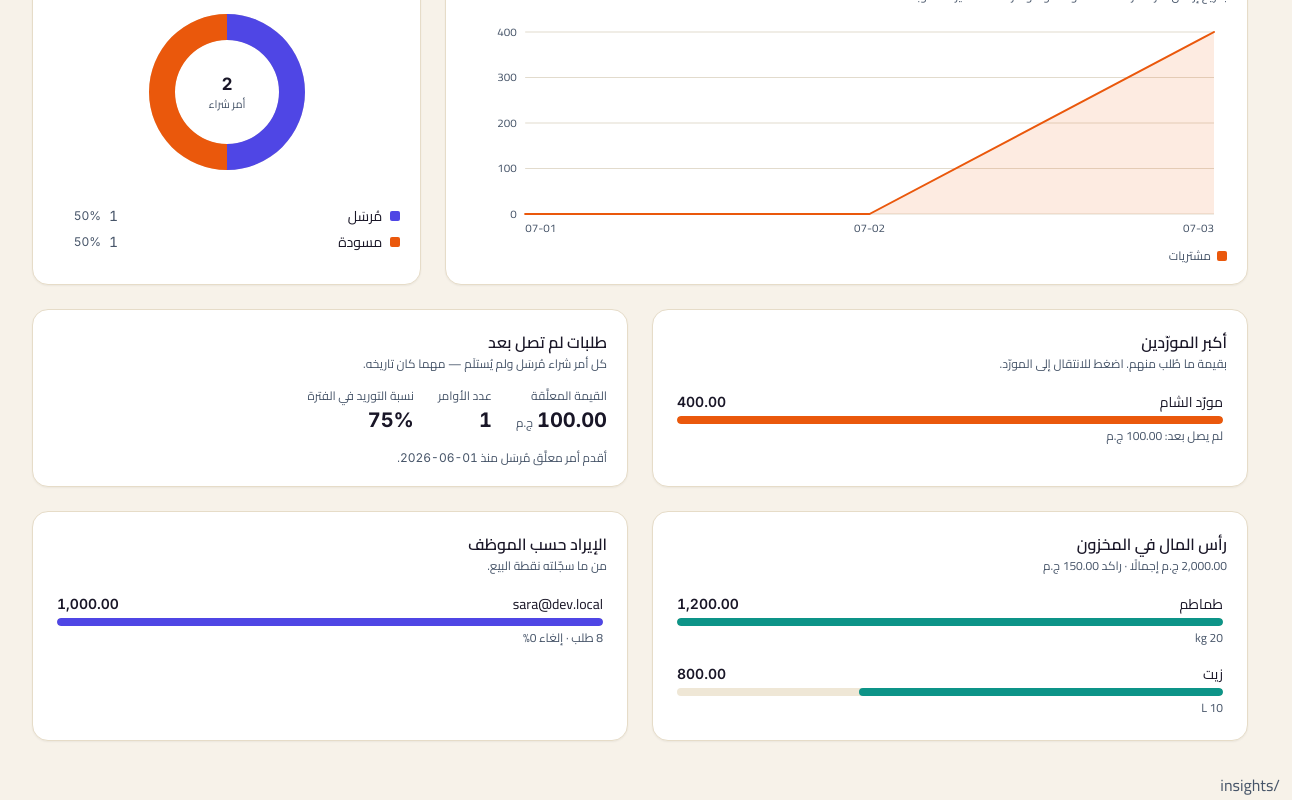
it: getting from a chart to the record › a supplier bar opens that supplier
The image size is (1292, 800).
(page scrolled)
Click the button "مورّد الشام 400.00 لم يصل بعد: 100.00 ج.م" at (950, 418), box [673,388,1227,448]
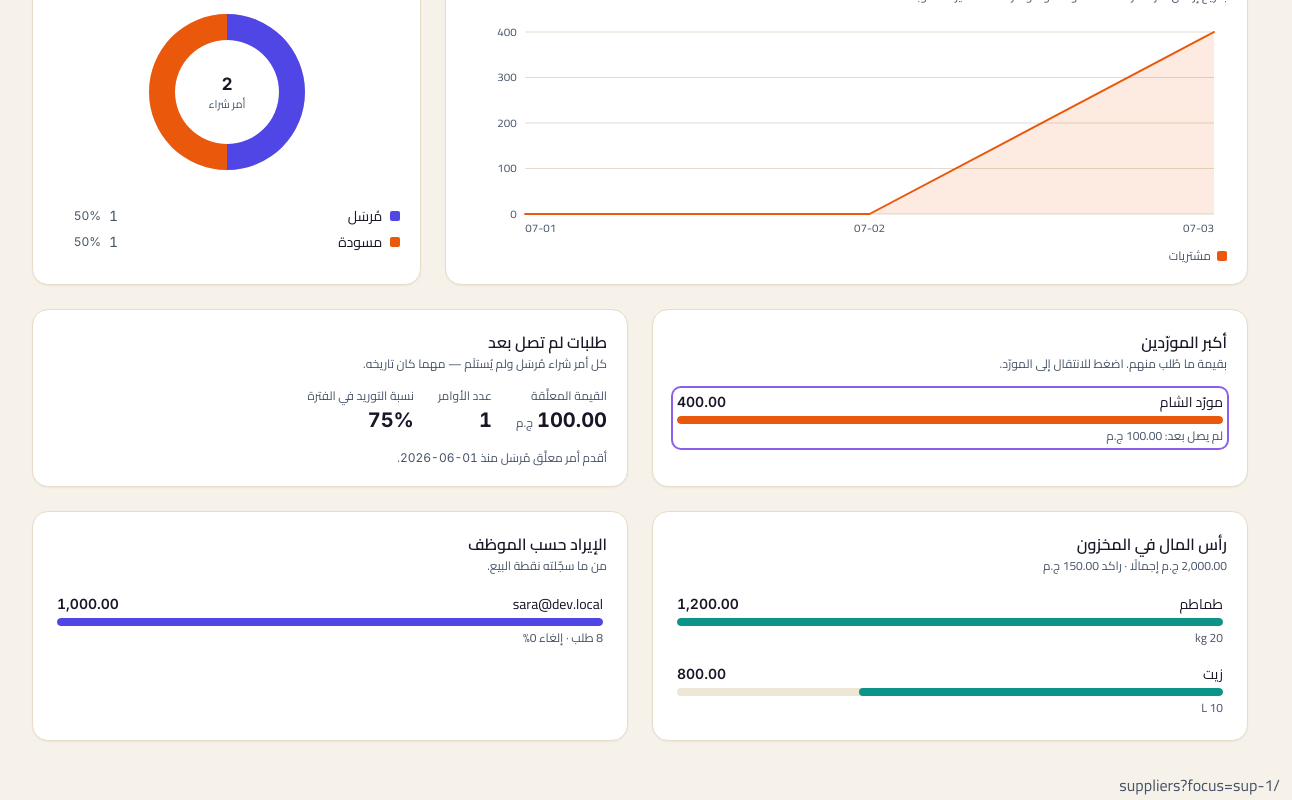
Result: the text with test id "here" reads "/suppliers?focus=sup-1" at [1119,770,1280,799]
